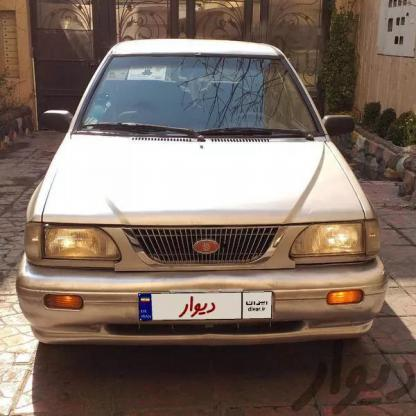Car: (15, 39, 396, 359)
